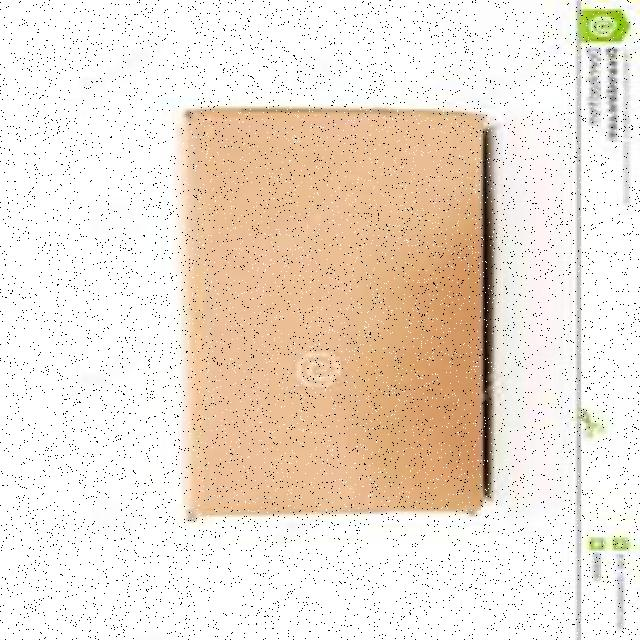normal: (164, 97, 496, 520)
